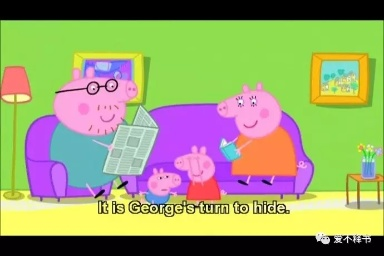Peppa: (173, 144, 224, 206)
